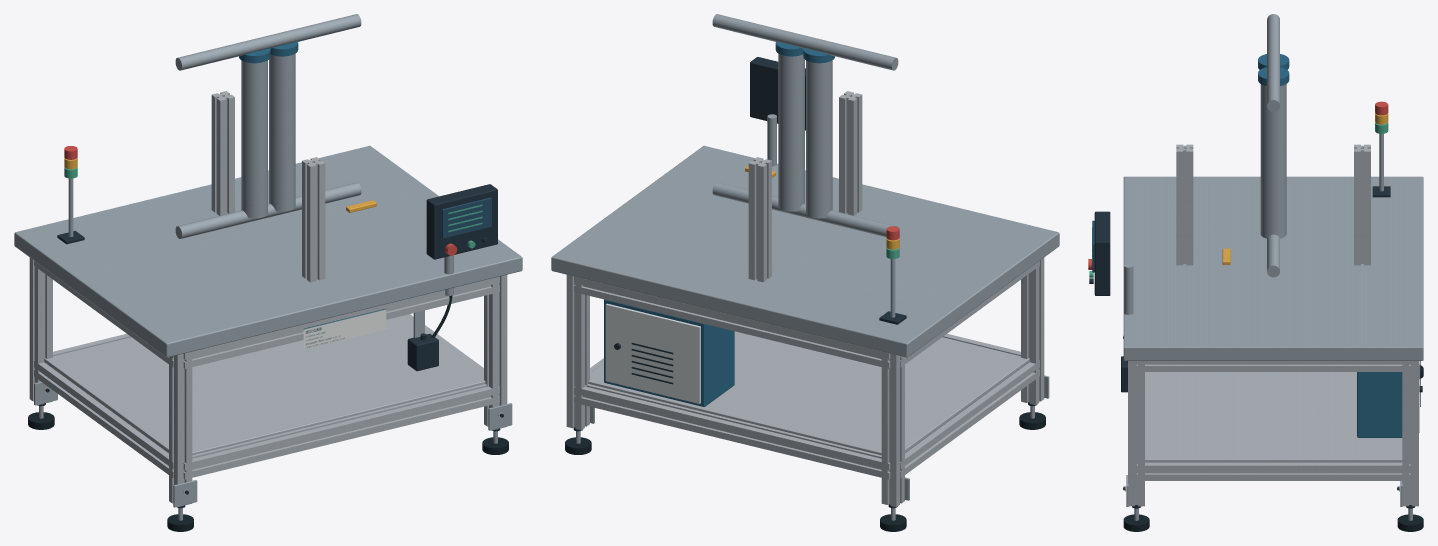
The model's file is cartridge-filter-cell.glb.
3 renders of one model, left to right at view 1: azimuth 30°, elevation 25°; view 2: azimuth 150°, elevation 25°; view 3: azimuth 270°, elevation 25°, orthographic.
Parts seen in each view (by area): view 1: ClosedMachineBed_40, LowerShelf_41, SlottedExtrusion_34, FilterHousing_73, FilterHousing_75, SlottedExtrusion_35, SlottedExtrusion_11, SlottedExtrusion_36, SlottedExtrusion_72, SlottedExtrusion_71, SlottedExtrusion_27, ConsoleBack_52 (+7 smaller); view 2: ClosedMachineBed_40, LowerShelf_41, BackDoor_43, SlottedExtrusion_32, SlottedExtrusion_33, FilterHousing_73, FilterHousing_75, SlottedExtrusion_3, SlottedExtrusion_19, Cabinet_42, SlottedExtrusion_36, SlottedExtrusion_71 (+6 smaller); view 3: ClosedMachineBed_40, LowerShelf_41, SlottedExtrusion_38, FilterHousing_75, Cabinet_42, SlottedExtrusion_39, SlottedExtrusion_27, SlottedExtrusion_19, SlottedExtrusion_72, SlottedExtrusion_71, ConsoleBack_52, OutletHeader_78 (+4 smaller).
Part boxes in pixels (x1,y1,x2,y2): ClosedMachineBed_40: [14, 145, 522, 357]; LowerShelf_41: [44, 315, 485, 455]; SlottedExtrusion_34: [183, 384, 499, 479]; FilterHousing_73: [241, 60, 267, 218]; FilterHousing_75: [269, 53, 295, 211]; SlottedExtrusion_35: [183, 276, 499, 368]; SlottedExtrusion_11: [169, 352, 192, 507]; SlottedExtrusion_36: [34, 360, 173, 478]; SlottedExtrusion_72: [302, 157, 325, 282]; SlottedExtrusion_71: [211, 91, 234, 215]; SlottedExtrusion_27: [484, 275, 507, 430]; ConsoleBack_52: [426, 184, 497, 259]; ClosedMachineBed_40: [551, 145, 1059, 357]; LowerShelf_41: [588, 331, 1029, 455]; BackDoor_43: [605, 303, 700, 403]; SlottedExtrusion_32: [574, 384, 890, 479]; SlottedExtrusion_33: [574, 276, 890, 368]; FilterHousing_73: [806, 60, 832, 218]; FilterHousing_75: [778, 53, 804, 211]; SlottedExtrusion_3: [881, 351, 904, 507]; SlottedExtrusion_19: [566, 275, 589, 430]; Cabinet_42: [604, 299, 734, 406]; SlottedExtrusion_36: [900, 360, 1039, 478]; SlottedExtrusion_71: [748, 157, 771, 282]; ClosedMachineBed_40: [1123, 176, 1423, 360]; LowerShelf_41: [1145, 372, 1402, 462]; SlottedExtrusion_38: [1136, 462, 1410, 480]; FilterHousing_75: [1260, 84, 1286, 238]; Cabinet_42: [1357, 372, 1402, 437]; SlottedExtrusion_39: [1136, 361, 1410, 371]; SlottedExtrusion_27: [1128, 361, 1144, 506]; SlottedExtrusion_19: [1402, 361, 1418, 506]; SlottedExtrusion_72: [1176, 144, 1193, 265]; SlottedExtrusion_71: [1354, 144, 1370, 265]; ConsoleBack_52: [1094, 211, 1110, 295]; OutletHeader_78: [1267, 14, 1279, 111].
Bounding box in the file's own units: 1.55 × 1.67 × 1.29.
11 materials, 3 textured.
